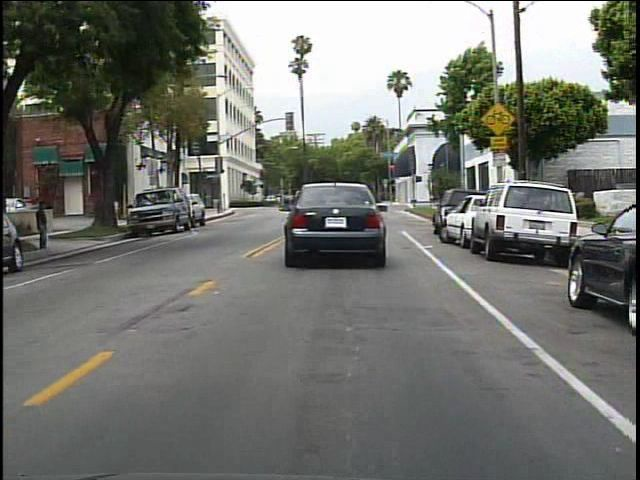person: (37, 198, 55, 251)
